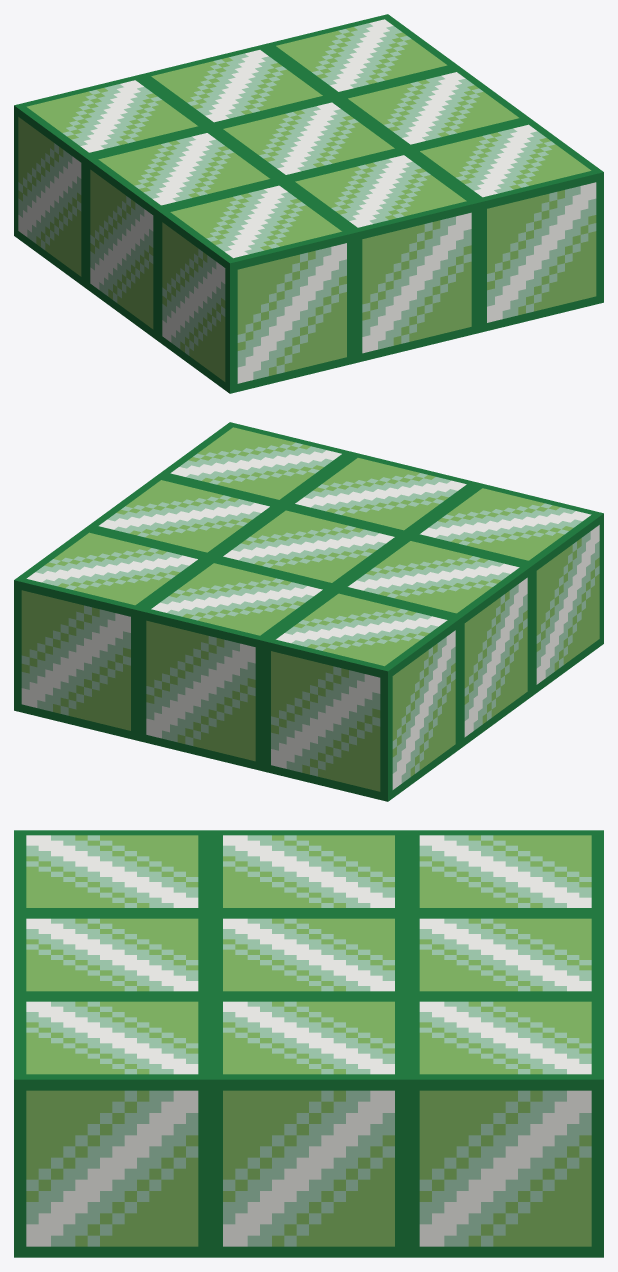
File: alter_tiles_green3x3.fbx
3 views of the same model, one above another, from view 1: azimuth 30°, elevation 25°; view 2: azimuth 150°, elevation 25°; view 3: azimuth 270°, elevation 25° (orthographic). The views are drawn at different scales.
Visible parts, largest first — view 1: alter_tiles_green3x3; view 2: alter_tiles_green3x3; view 3: alter_tiles_green3x3.
Boxes of the visible parts, x1,y1,x2,y2 form: alter_tiles_green3x3: [14, 14, 603, 393]; alter_tiles_green3x3: [14, 422, 603, 801]; alter_tiles_green3x3: [14, 830, 603, 1257].
Bounding box in the file's own units: 4.8 × 1.6 × 4.8.
1 material, 1 textured.
